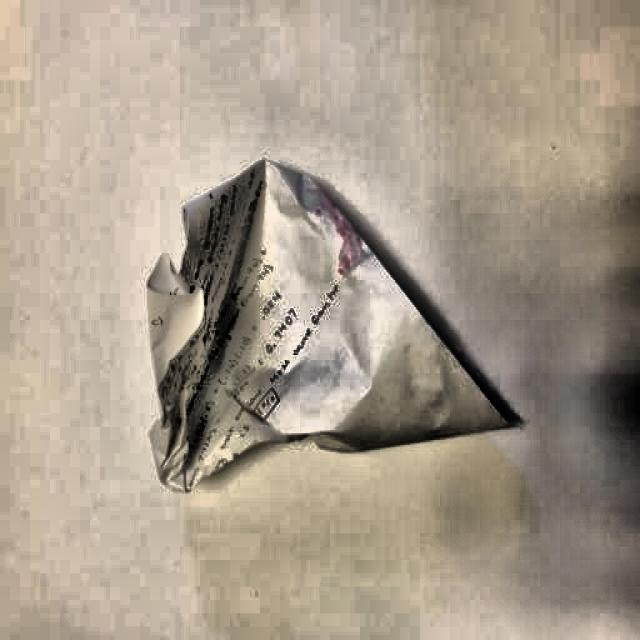paper: (141, 159, 513, 494)
